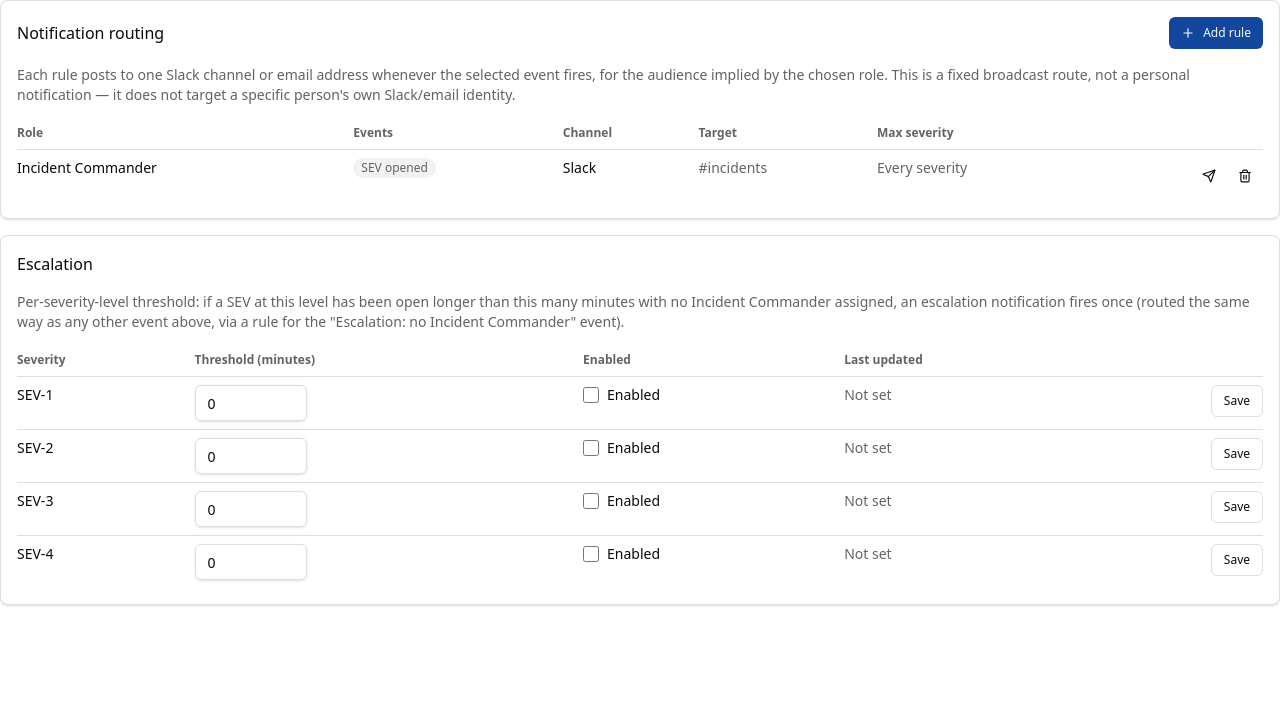
Test: AdminNotificationsPage › shows the delivery error when a test fails
The width and height of the screenshot is (1280, 720).
expect the text "#incidents" is shown: met, box top-left (698, 150), bottom-right (877, 202)
What coordinates should you click on to do the following:
click the button named "send test notifications for incident commander"
I would click on:
 (1209, 176)
Its box is top-left (1191, 158), bottom-right (1227, 194).
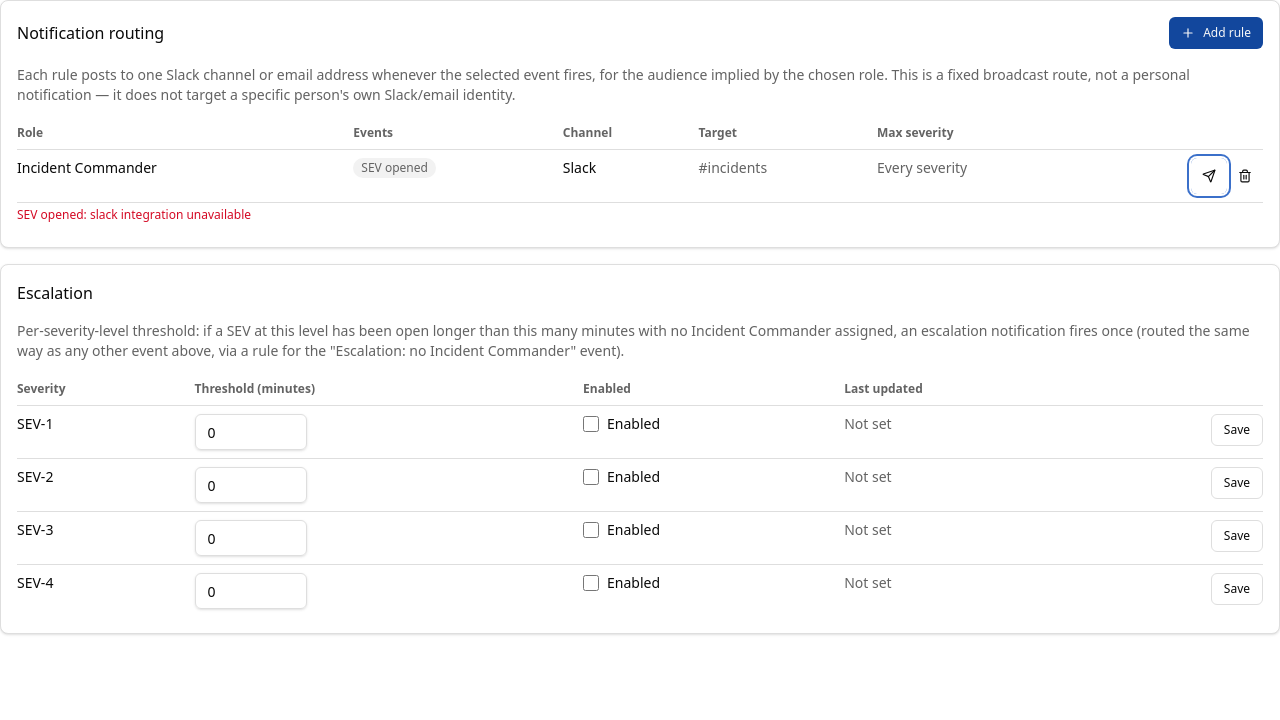
expect the list item "SEV opened: slack integration unavailable" is shown: met, box top-left (17, 206), bottom-right (251, 223)
